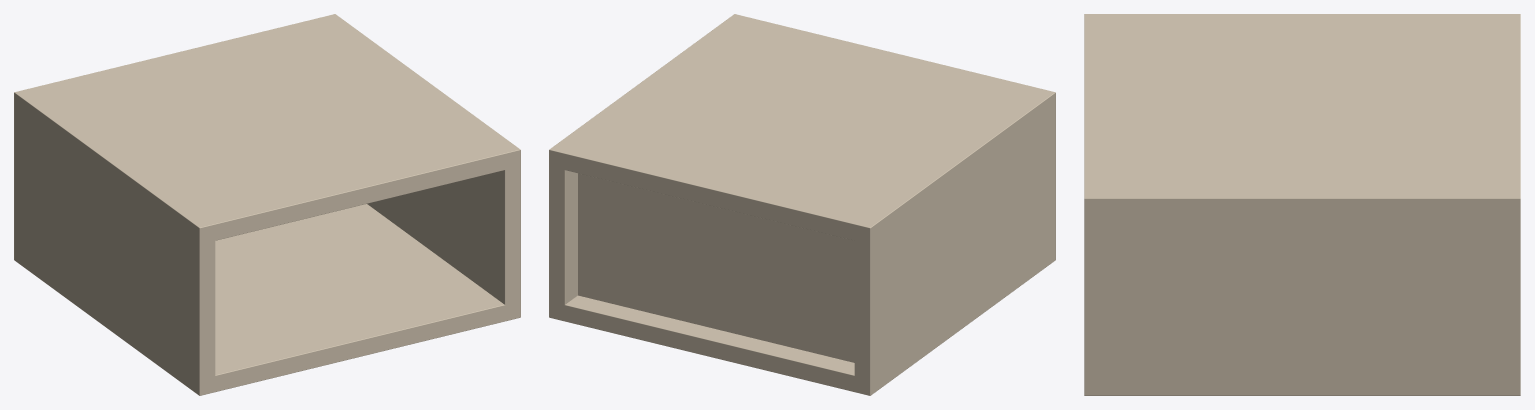
The model's file is MOD-1X05-A-B-AR.glb.
3 renders of one model, left to right at view 1: azimuth 30°, elevation 25°; view 2: azimuth 150°, elevation 25°; view 3: azimuth 270°, elevation 25°, orthographic. The views are drawn at different scales.
Size of the model in its own units: 360 by 180 by 360.
